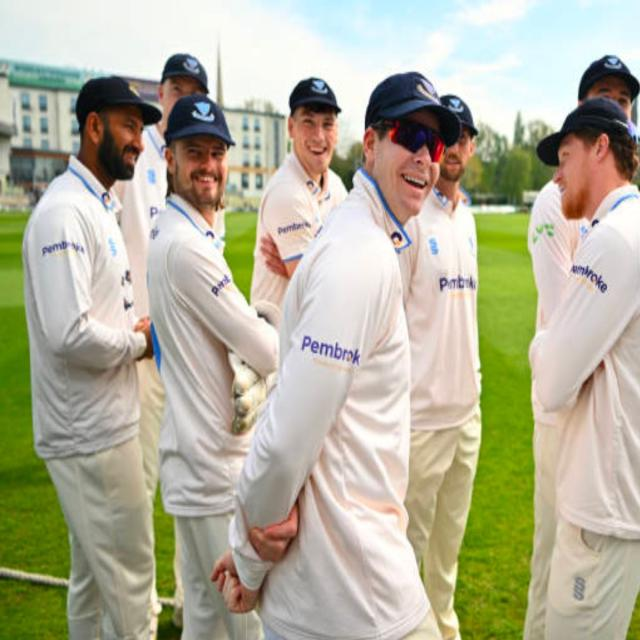illegal_helmet: (360, 67, 460, 221), (530, 94, 640, 223), (70, 68, 162, 194), (160, 86, 237, 216), (283, 71, 344, 178)
